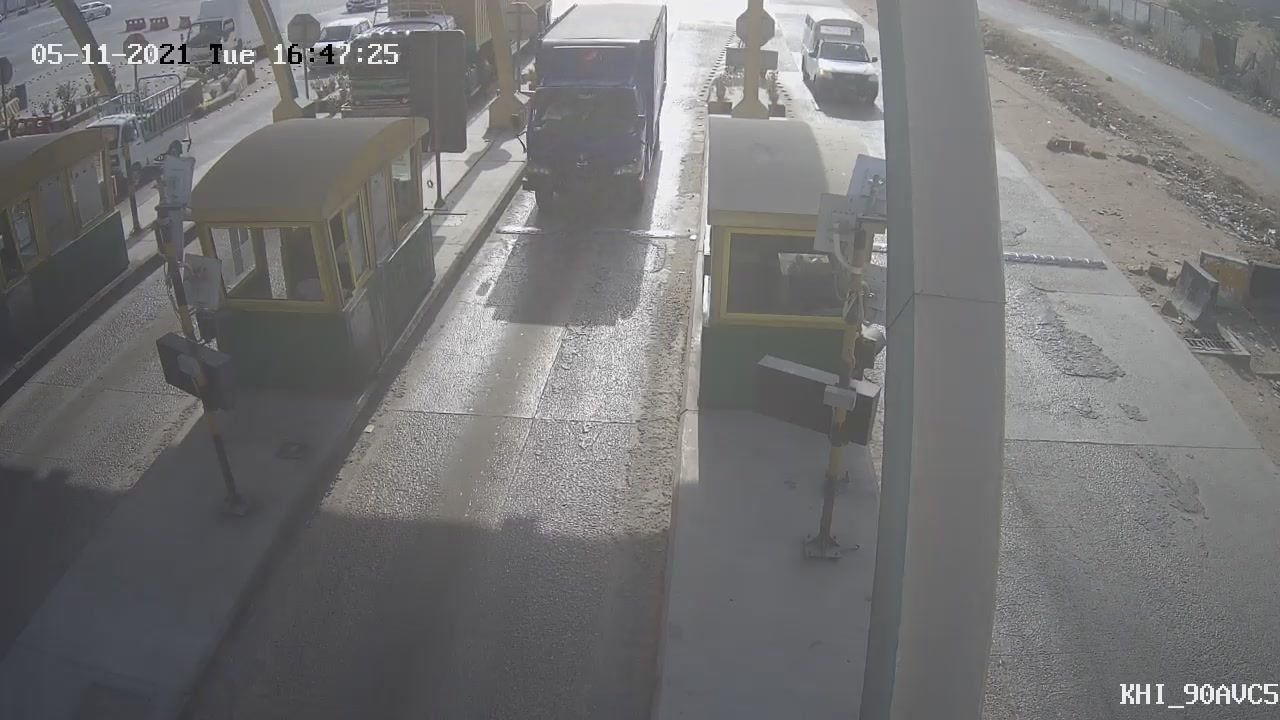F5: (508, 1, 679, 236)
